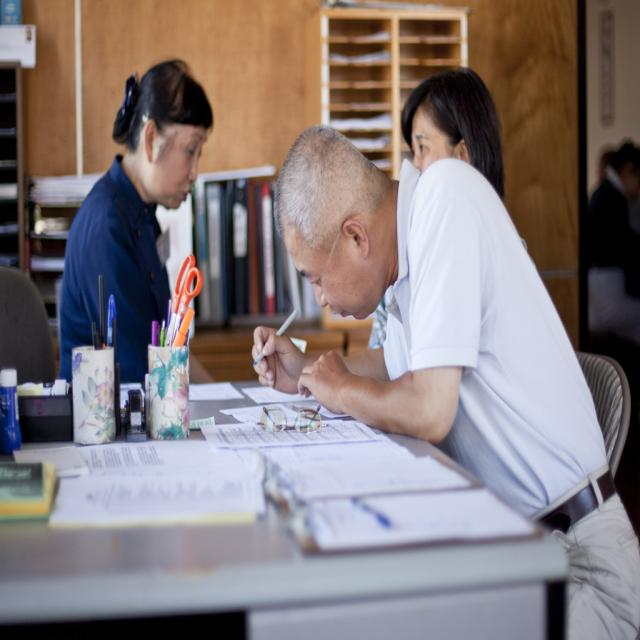chair: (574, 349, 632, 482), (0, 265, 56, 386)
desk: (0, 376, 569, 639)
person: (263, 75, 636, 620), (57, 58, 214, 387), (587, 137, 640, 350)
